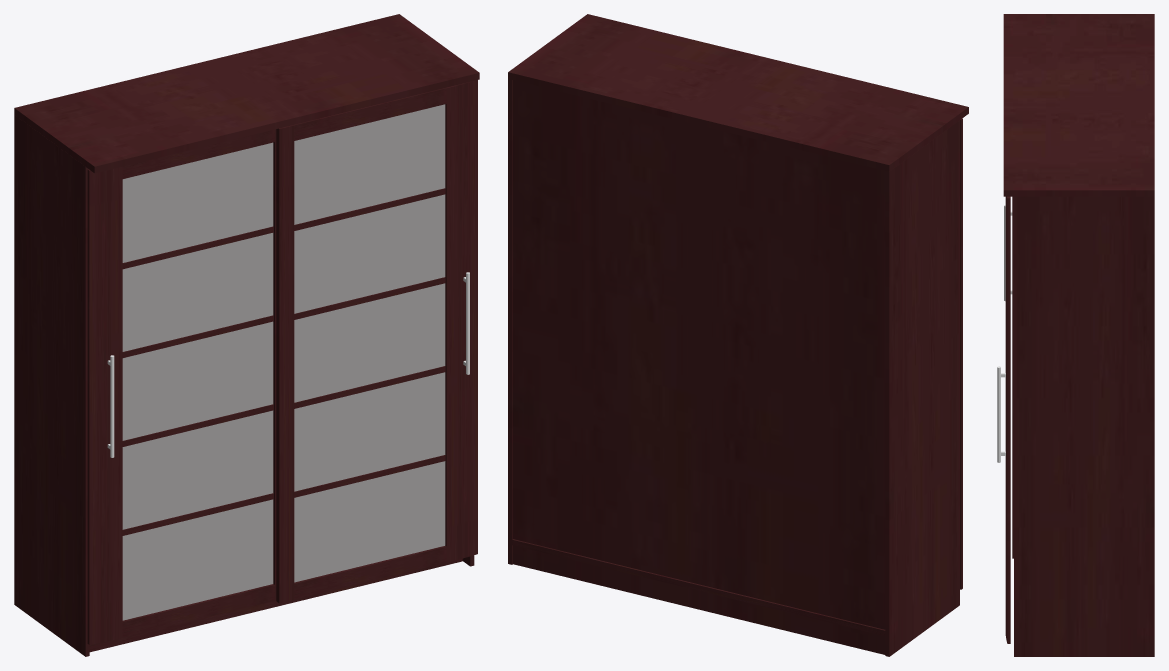
The model's file is armoireLotus.glb.
The picture shows the model from 3 angles, left to right: view 1: azimuth 30°, elevation 25°; view 2: azimuth 150°, elevation 25°; view 3: azimuth 270°, elevation 25°; orthographic projection. The views are drawn at different scales.
Parts seen in each view (by area): view 1: armoireLotus; view 2: armoireLotus; view 3: armoireLotus.
Boxes of the visible parts, x1=… form: armoireLotus: x1=14, y1=14, x2=479, y2=656; armoireLotus: x1=508, y1=14, x2=968, y2=656; armoireLotus: x1=997, y1=14, x2=1154, y2=656.
Size of the model in its own units: 1.79 by 2.21 by 0.6754.
Materials: 3 (2 with a texture image).
